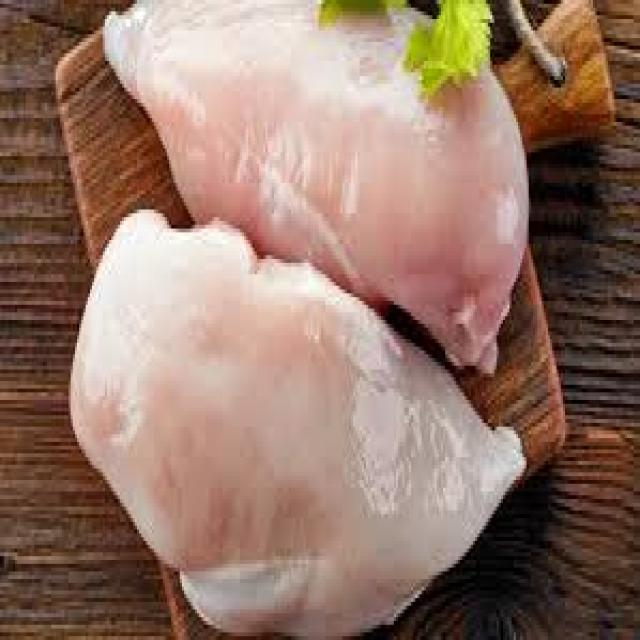Chicken: (101, 266, 496, 640), (138, 0, 523, 280)
